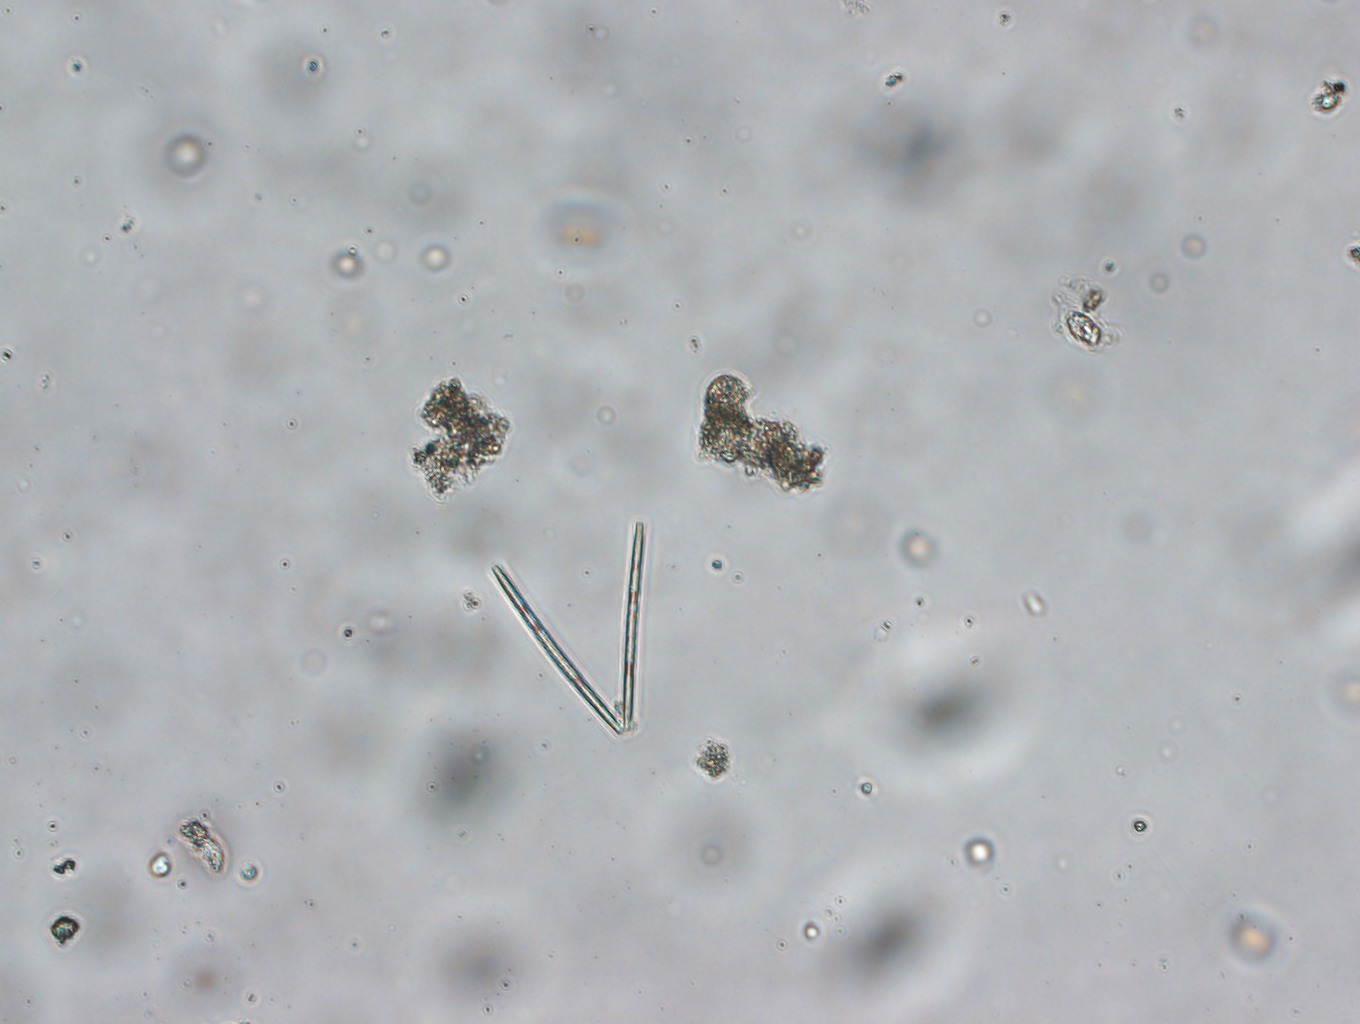thalassionema frauenfeldii: (485, 520, 656, 751)
